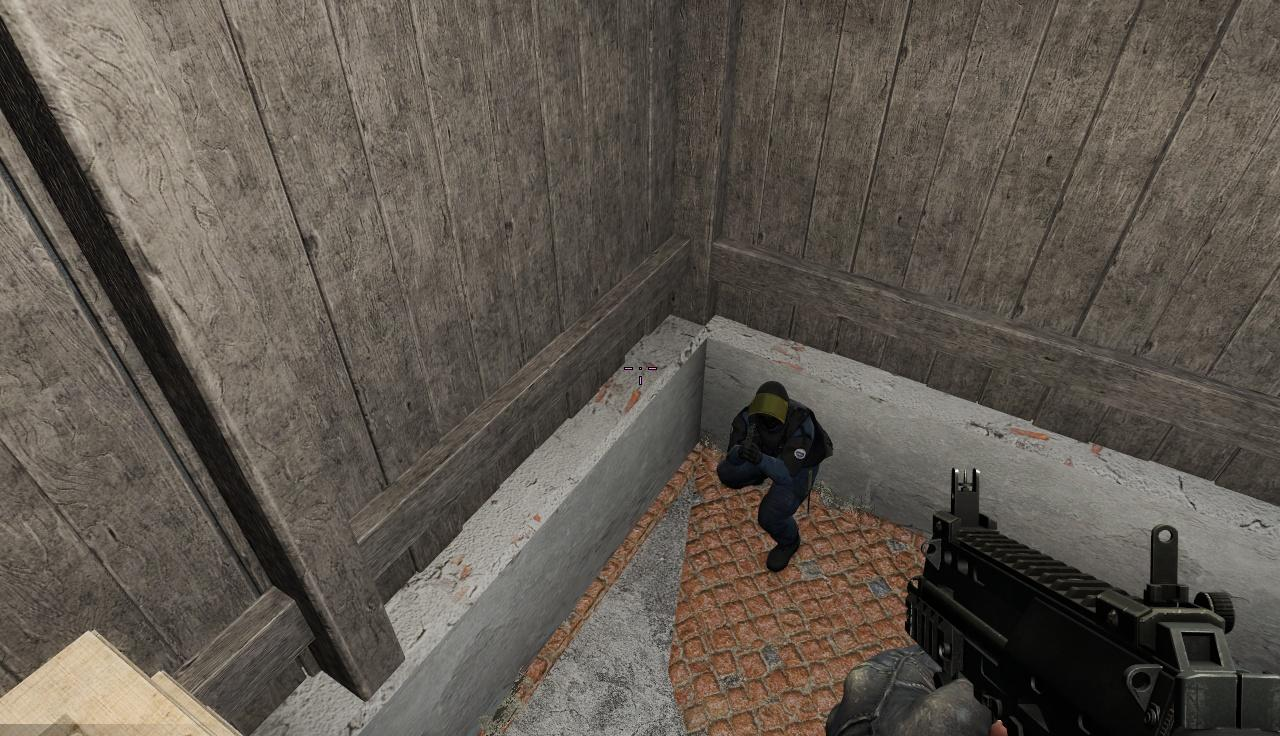ct: (720, 379, 815, 565)
cthead: (751, 382, 792, 425)
rifle: (910, 473, 1274, 736)
